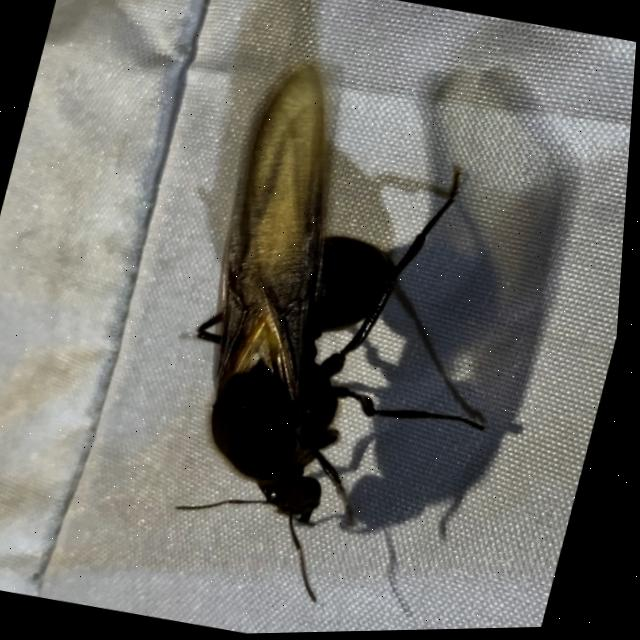Alive-Female-Alate: (136, 50, 578, 634)
